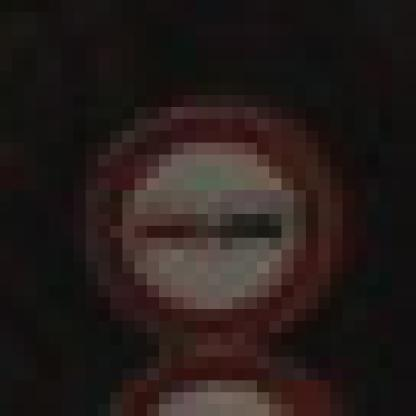No Overtaking: (62, 72, 344, 346)
